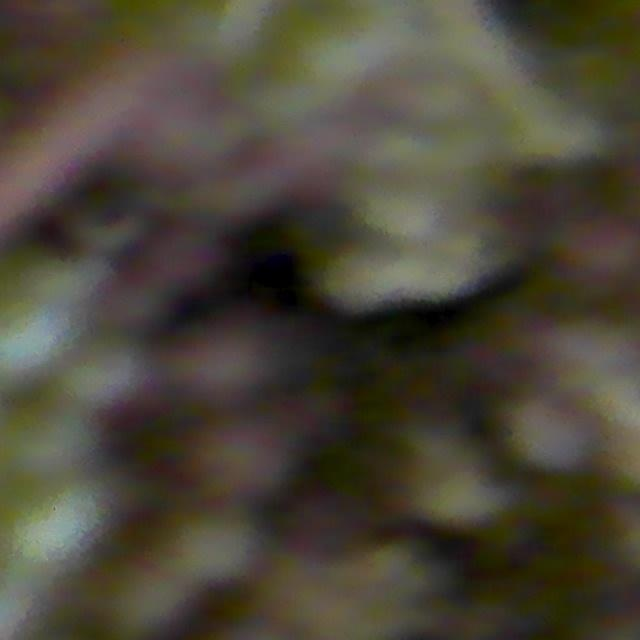SeaGrape: (0, 471, 112, 585), (194, 415, 294, 507), (171, 508, 266, 594), (7, 402, 96, 486), (501, 397, 593, 478), (103, 563, 193, 640)
